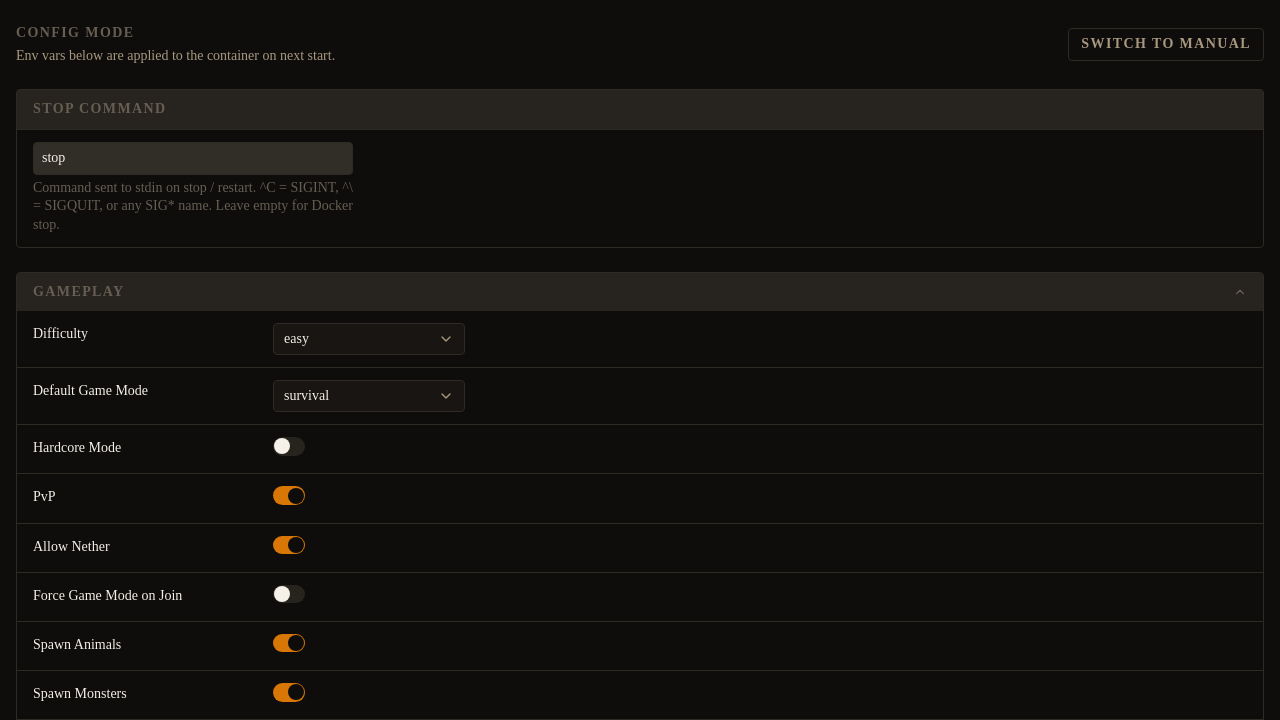
Test: Config Mode Toggle › no "manual mode active" warning notice is shown anywhere once switched to MANUAL mode
The width and height of the screenshot is (1280, 720).
Click the button "Switch to Manual" at [1166, 45], box [1068, 28, 1264, 61]
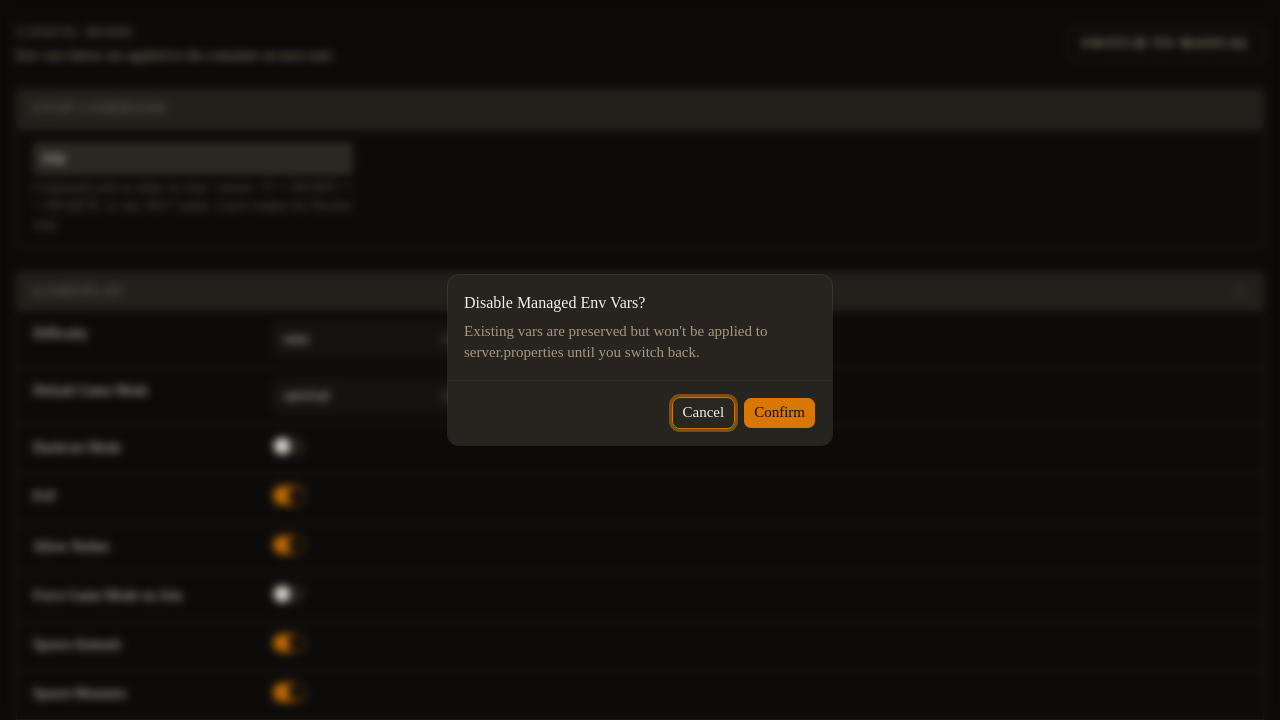
Check: the heading "Disable Managed Env Vars?" is shown, box [464, 291, 645, 315]
Click the button "Confirm" at [780, 413], box [743, 397, 816, 429]
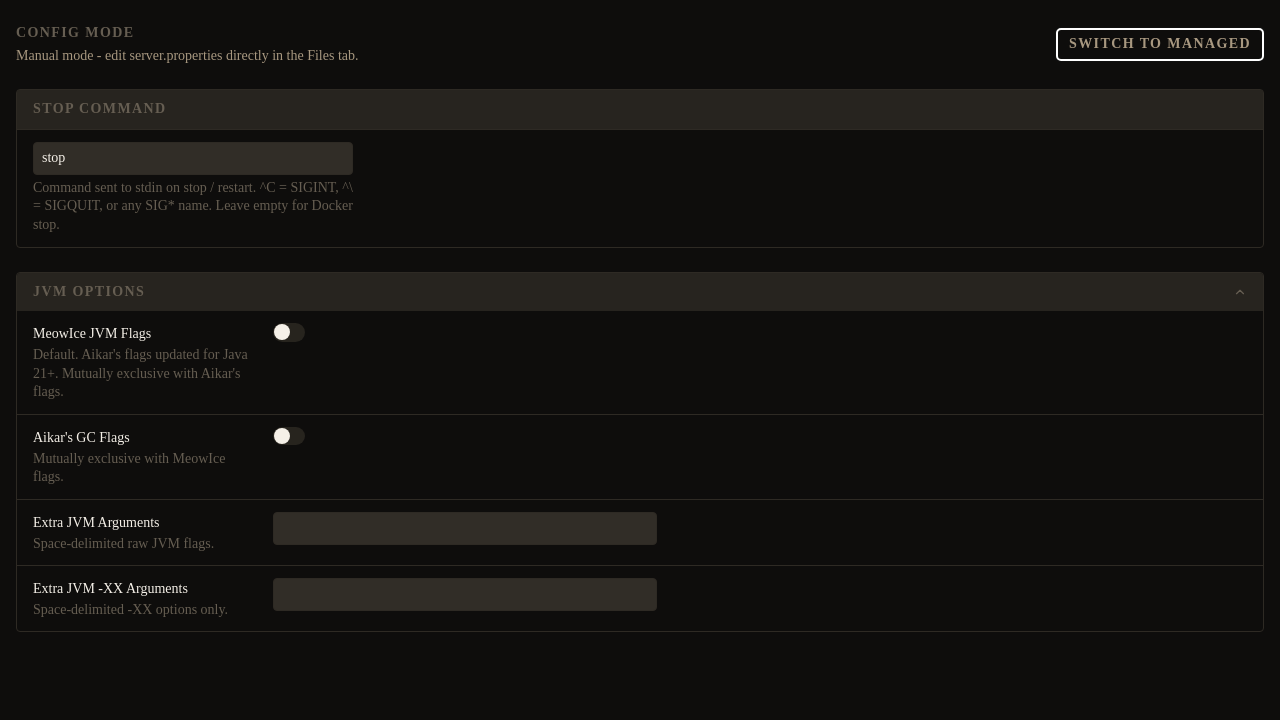
Check: the text "edit server.properties directly" is shown, box [16, 48, 358, 63]
